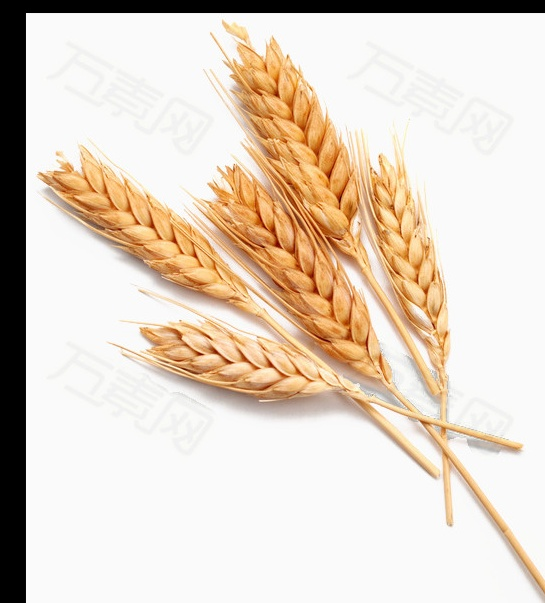wheat: (218, 28, 403, 331), (46, 141, 296, 341), (223, 174, 411, 407), (346, 142, 467, 406), (85, 306, 368, 398)
